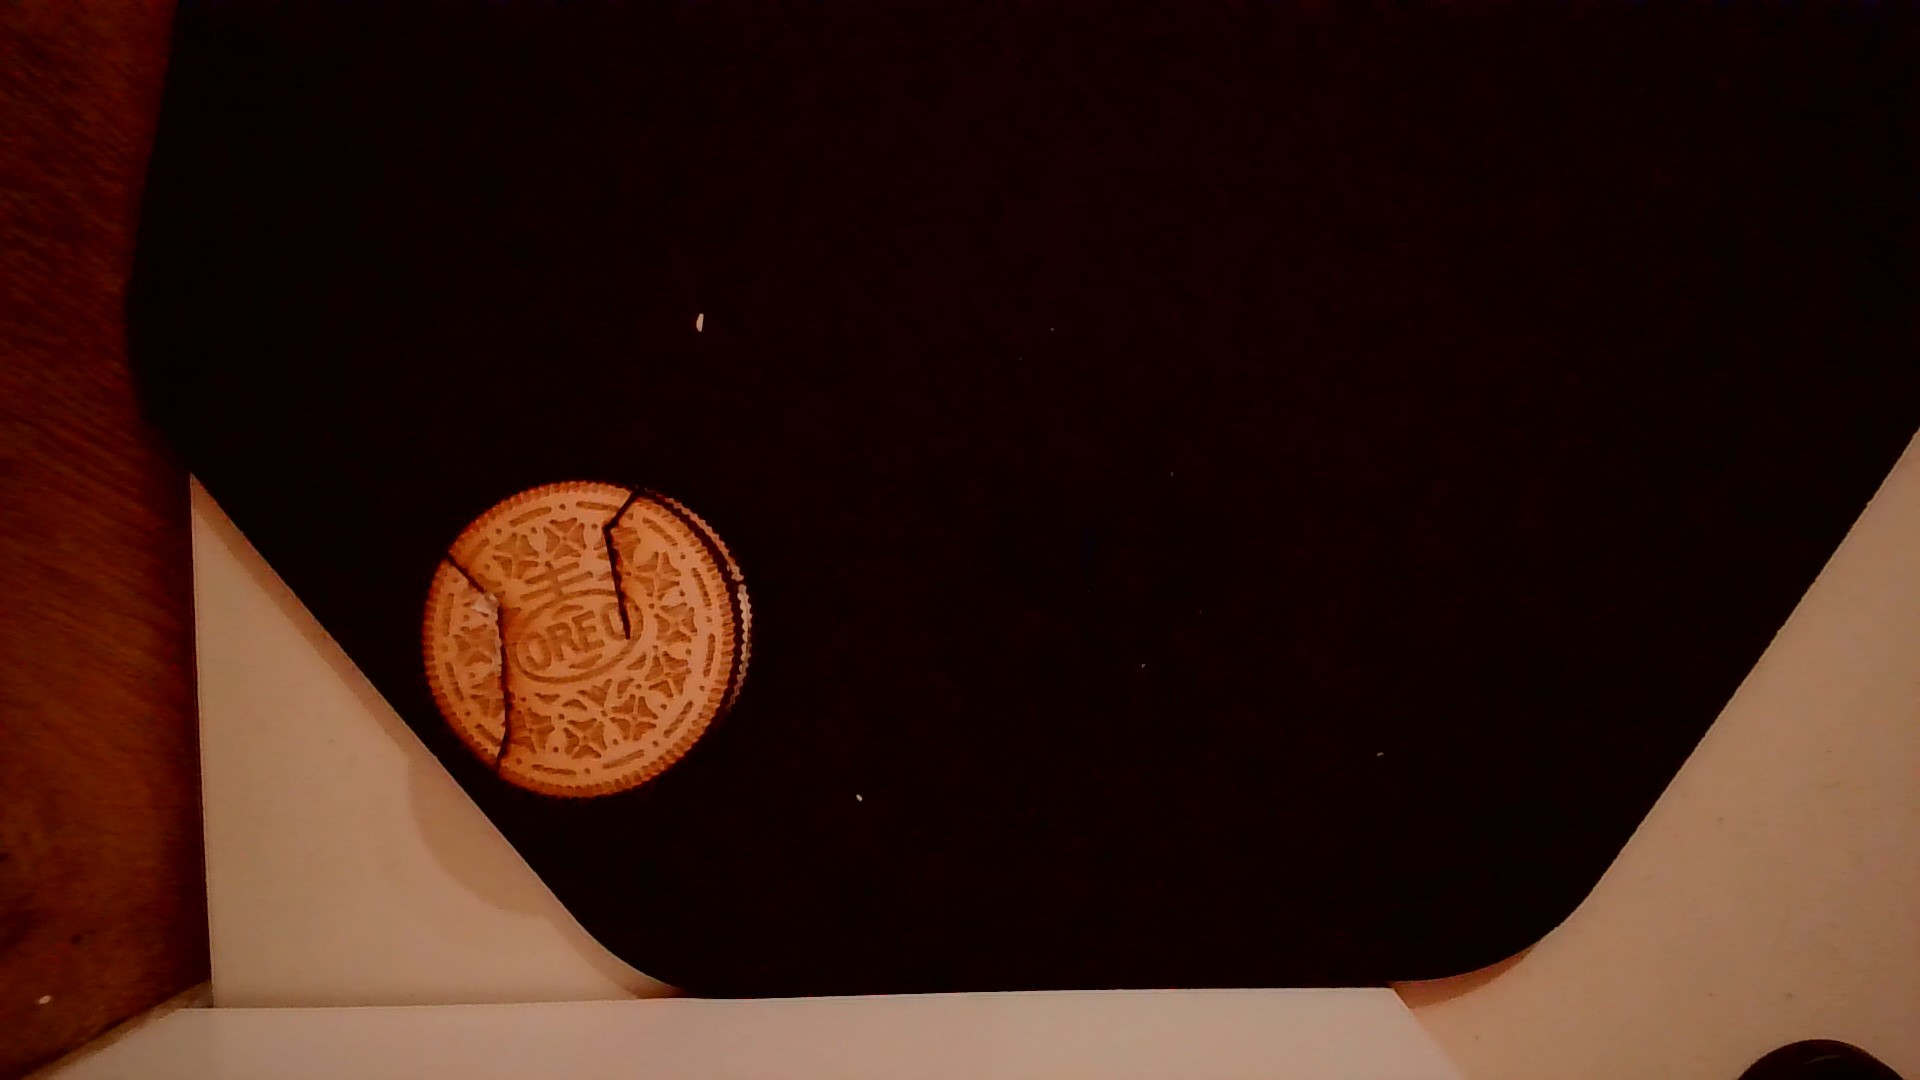Fissure: (434, 550, 520, 779), (591, 483, 659, 644)
Oréo: (415, 477, 764, 802)
